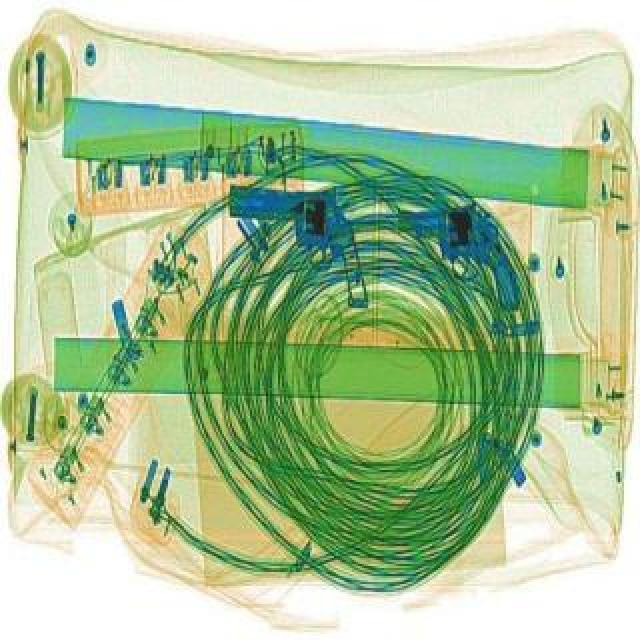gun: (226, 184, 370, 306), (394, 198, 522, 318)
